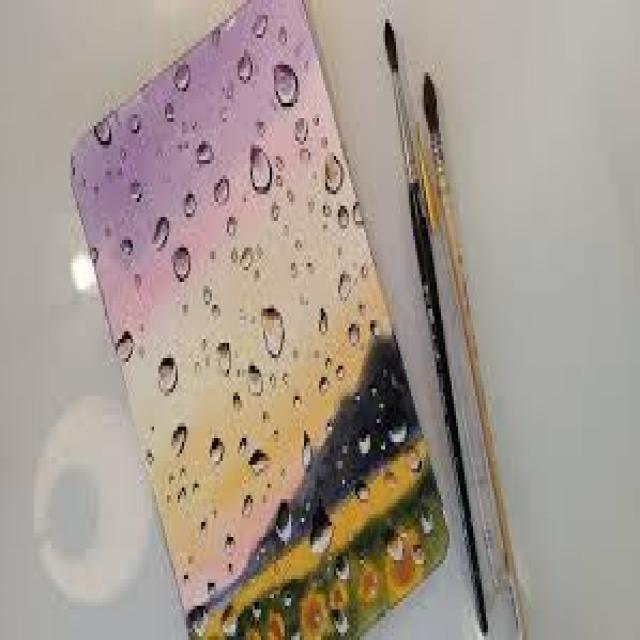raindrop: (306, 494, 346, 573), (242, 132, 278, 210), (271, 48, 304, 120), (259, 296, 289, 370), (272, 499, 304, 566), (155, 348, 186, 404), (168, 240, 198, 296), (321, 144, 345, 206)
